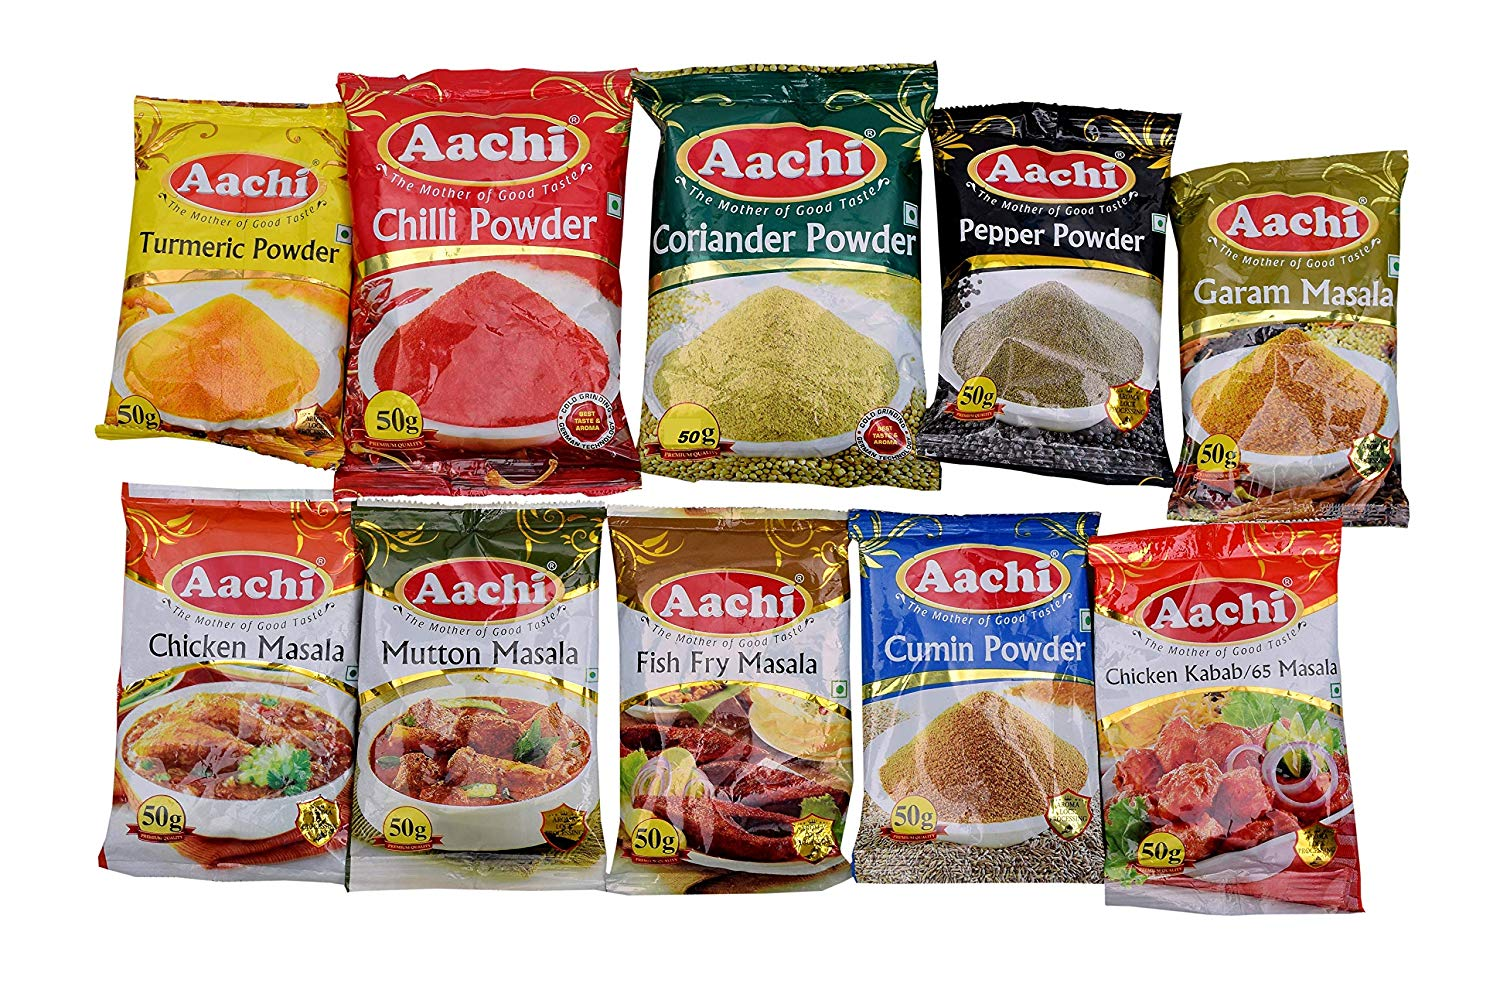VEG: (826, 675, 854, 701), (604, 189, 626, 218), (334, 219, 353, 248), (1148, 211, 1173, 233), (902, 199, 922, 224), (1075, 606, 1095, 629), (581, 662, 602, 682), (1388, 254, 1404, 279), (1329, 680, 1344, 699), (344, 665, 359, 680)
